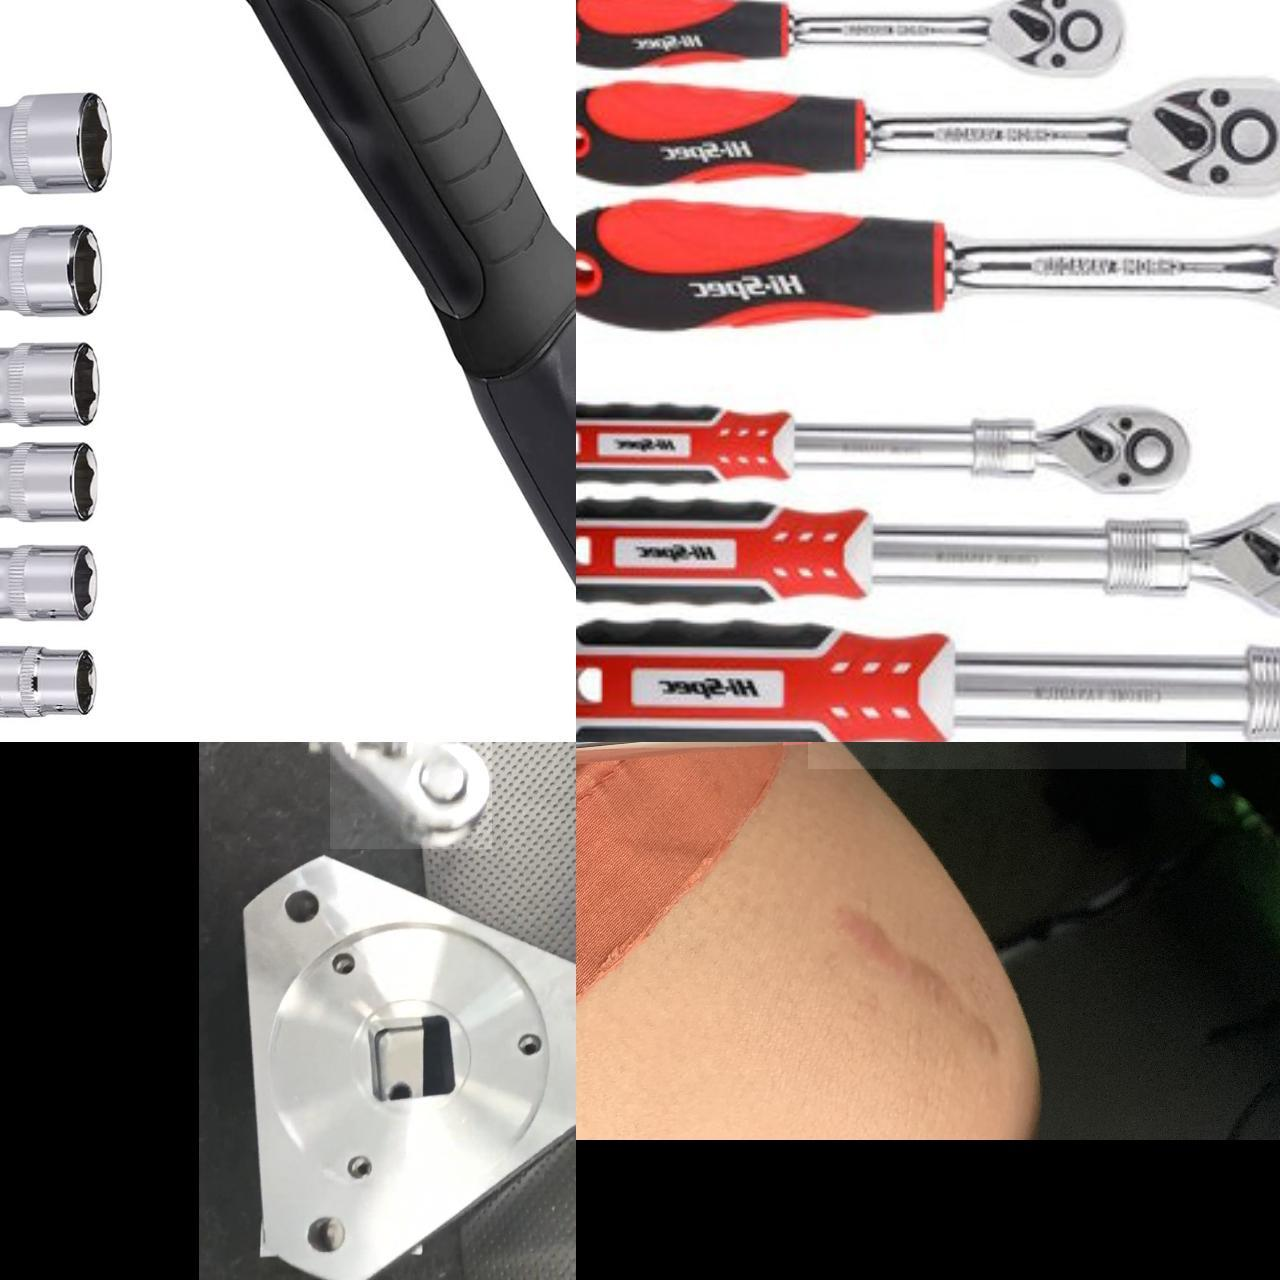Tool: (1123, 80, 1280, 192), (331, 742, 492, 847), (1037, 399, 1194, 497), (1176, 493, 1280, 614), (983, 0, 1132, 79)
